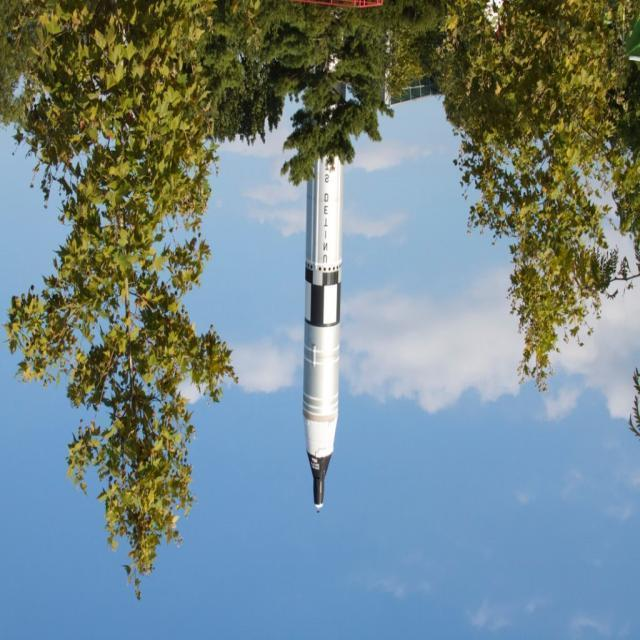missile: (300, 118, 345, 512)
